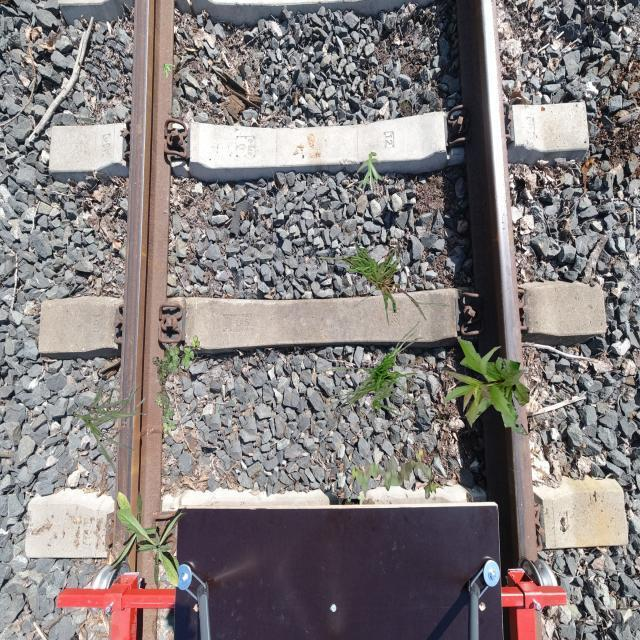Plant: (312, 321, 430, 444), (307, 240, 450, 330), (441, 338, 530, 436), (73, 379, 146, 472), (108, 491, 180, 572), (116, 507, 188, 588), (153, 336, 202, 439), (351, 448, 438, 500), (356, 152, 382, 194), (161, 63, 175, 78)
